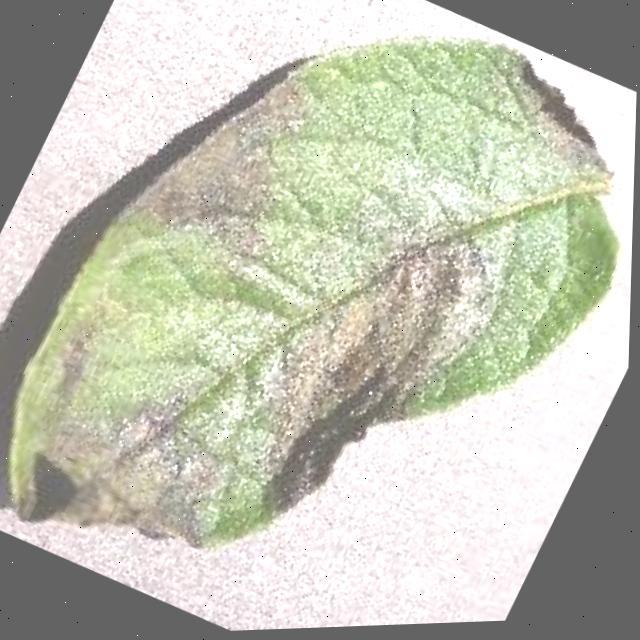Late_blight: (229, 210, 505, 562), (109, 18, 346, 287), (0, 367, 249, 604), (472, 53, 638, 202)
